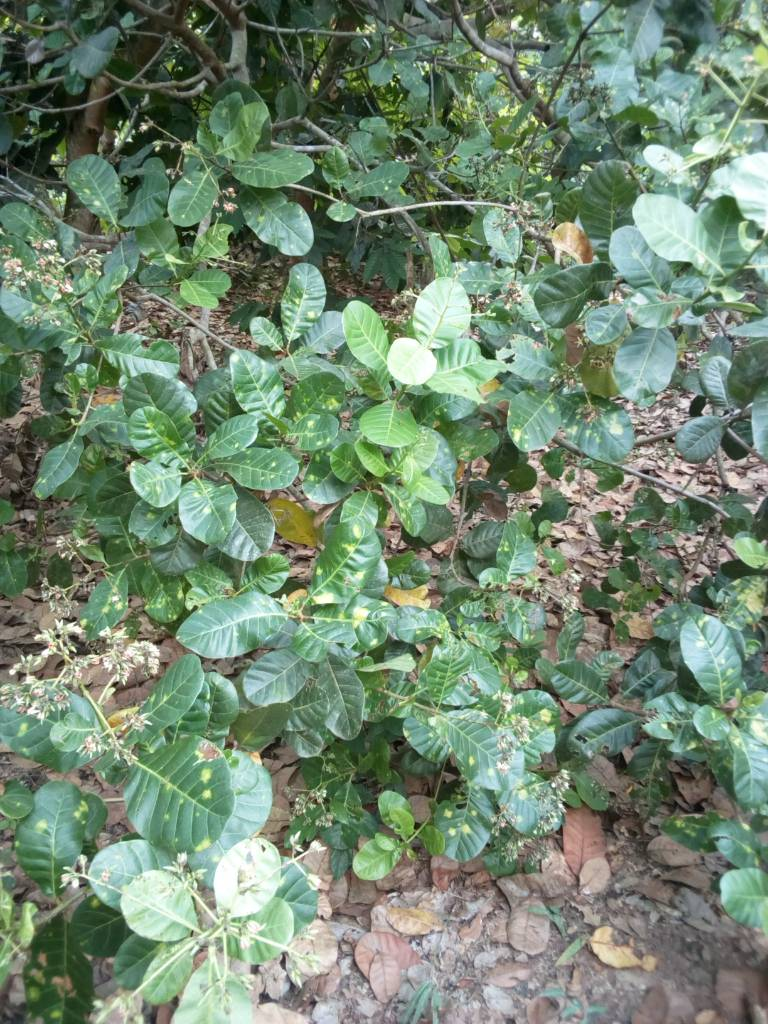Carence minérale: (122, 730, 243, 855), (6, 774, 86, 883), (305, 513, 388, 611), (430, 783, 516, 874), (405, 270, 483, 354), (556, 394, 654, 455), (679, 611, 746, 700), (444, 707, 516, 783), (180, 475, 250, 553), (157, 166, 230, 235), (501, 771, 569, 841), (72, 561, 130, 642), (222, 347, 283, 422), (277, 262, 329, 346), (121, 399, 194, 457), (507, 381, 557, 456), (280, 369, 354, 419), (495, 522, 543, 586), (735, 691, 768, 753)
